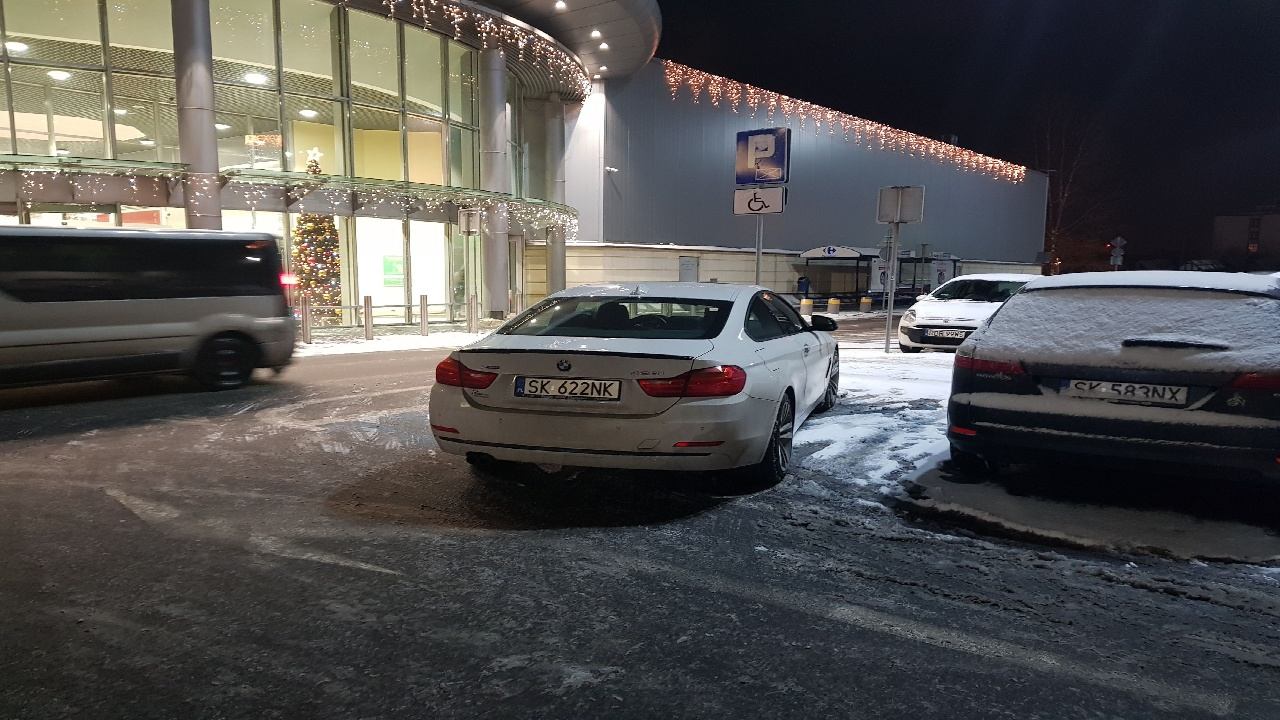D18: (731, 127, 793, 188)
